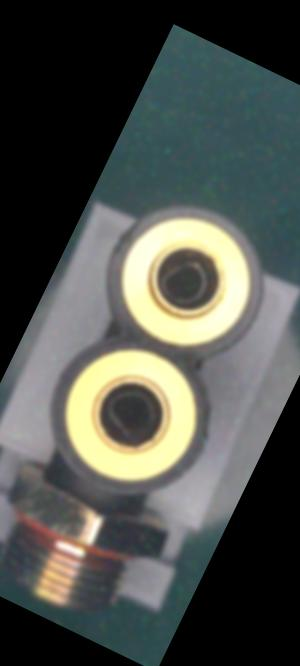bump: (99, 212, 142, 264), (186, 401, 225, 445)
off-centered: (91, 378, 168, 455), (146, 247, 217, 315)
